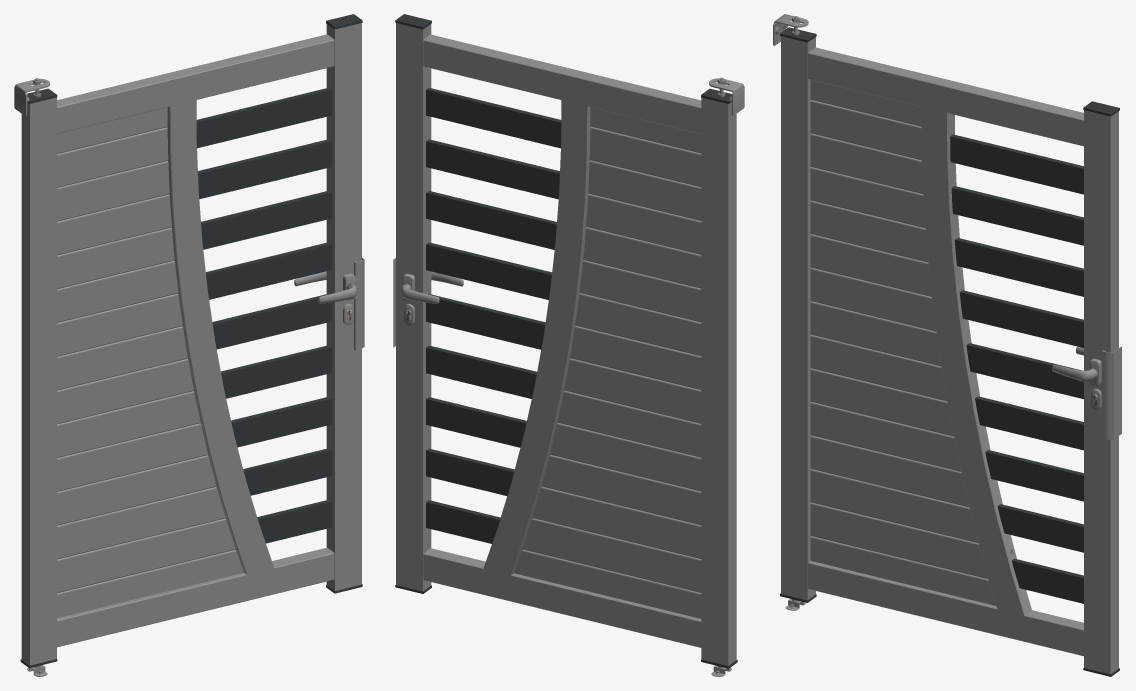
The picture shows the model from 3 angles, left to right: view 1: azimuth 30°, elevation 25°; view 2: azimuth 150°, elevation 25°; view 3: azimuth 330°, elevation 25°; orthographic projection.
Visible parts, largest first — view 1: lamina semi, Shape107412643, montante (×2), Shape107412638, montante curvo, lamina013, lamina012, lamina011, lamina010, lamina009, lamina014, lamina008 (+10 smaller); view 2: lamina semi, Shape107412643, montante (×2), Shape107412638, montante curvo, lamina013, lamina012, lamina011, lamina010, lamina014, lamina009, lamina008 (+9 smaller); view 3: lamina semi, montante (×2), Shape107412638, Shape107412643, montante curvo, lamina013, lamina012, lamina011, lamina010, lamina009, lamina014, lamina008 (+9 smaller).
Part boxes in pixels (bbox=[...]): lamina semi: bbox=[196, 87, 331, 543]; Shape107412643: bbox=[21, 97, 56, 665]; montante (×2): bbox=[57, 34, 334, 647]; Shape107412638: bbox=[326, 23, 361, 590]; montante curvo: bbox=[167, 91, 273, 574]; lamina013: bbox=[57, 518, 235, 592]; lamina012: bbox=[57, 487, 225, 559]; lamina011: bbox=[57, 455, 216, 525]; lamina010: bbox=[57, 423, 207, 491]; lamina009: bbox=[57, 391, 200, 457]; lamina014: bbox=[57, 550, 243, 618]; lamina008: bbox=[57, 358, 193, 424]; lamina semi: bbox=[426, 87, 561, 543]; Shape107412643: bbox=[701, 97, 736, 665]; montante (×2): bbox=[423, 34, 701, 647]; Shape107412638: bbox=[396, 23, 431, 591]; montante curvo: bbox=[482, 100, 590, 587]; lamina013: bbox=[522, 518, 701, 592]; lamina012: bbox=[532, 486, 701, 558]; lamina011: bbox=[541, 455, 701, 525]; lamina010: bbox=[550, 423, 701, 491]; lamina014: bbox=[514, 549, 701, 618]; lamina009: bbox=[557, 390, 701, 457]; lamina008: bbox=[564, 358, 701, 423]; lamina semi: bbox=[950, 134, 1083, 603]; montante (×2): bbox=[808, 47, 1083, 656]; Shape107412638: bbox=[1084, 110, 1118, 674]; Shape107412643: bbox=[781, 36, 815, 600]; montante curvo: bbox=[921, 98, 1031, 615]; lamina013: bbox=[810, 502, 1012, 578]; lamina012: bbox=[810, 469, 978, 543]; lamina011: bbox=[810, 435, 969, 507]; lamina010: bbox=[810, 402, 961, 471]; lamina009: bbox=[810, 368, 953, 436]; lamina014: bbox=[810, 536, 996, 605]; lamina008: bbox=[810, 334, 946, 401].
Bounding box in the file's own units: 1015 × 1688 × 152.
Materials: 7 (4 with a texture image).
